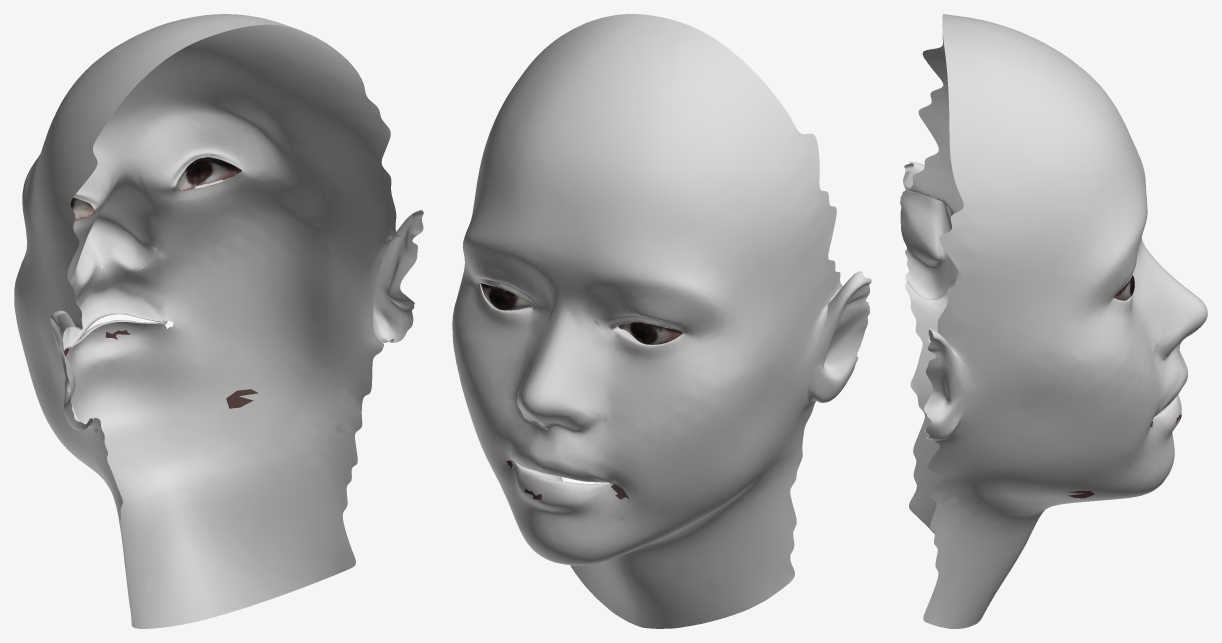
Rendered from bella_2.glb.
3 renders of one model, left to right at view 1: azimuth 30°, elevation 25°; view 2: azimuth 150°, elevation 25°; view 3: azimuth 270°, elevation 25°, orthographic. The views are drawn at different scales.
Visible parts, largest first — view 1: FaceGen; view 2: FaceGen; view 3: FaceGen.
Boxes of the visible parts, x1,y1,x2,y2 form: FaceGen: (14, 14, 423, 628); FaceGen: (452, 14, 871, 628); FaceGen: (900, 14, 1207, 628).
Bounding box in the file's own units: 0.9425 × 1.43 × 0.686.
Materials: 3 (2 with a texture image).
